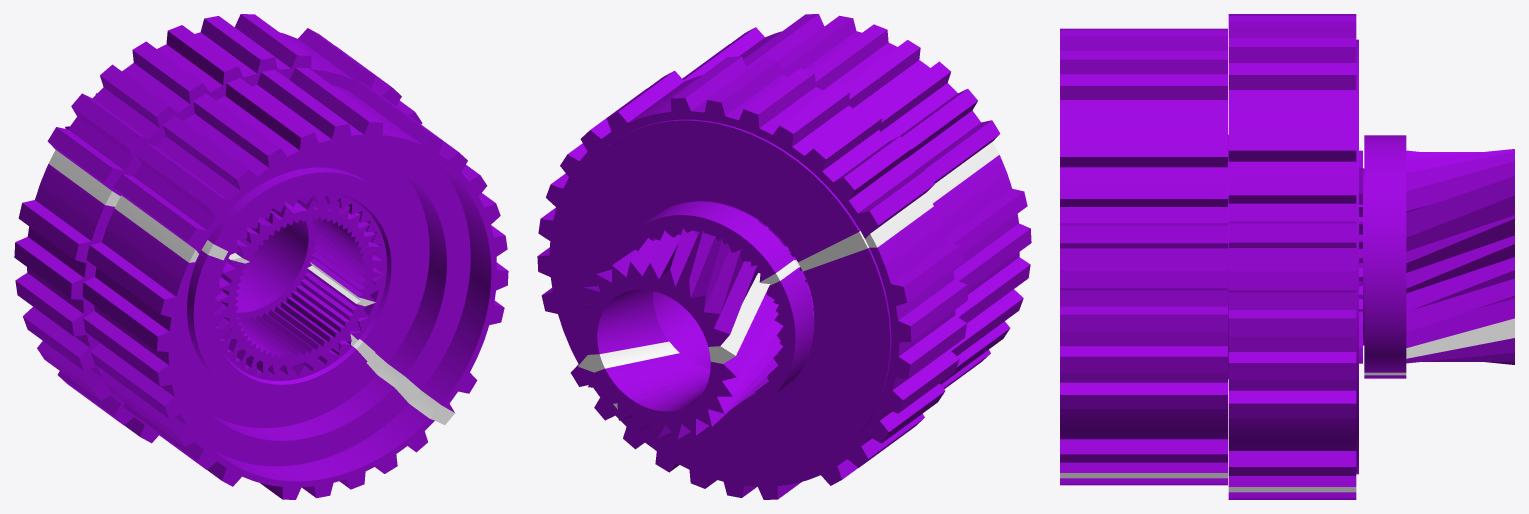
Rendered from 664 and 668.fbx.
The picture shows the model from 3 angles, left to right: view 1: azimuth 30°, elevation 25°; view 2: azimuth 150°, elevation 25°; view 3: azimuth 270°, elevation 25°; orthographic projection. The views are drawn at different scales.
Visible parts, largest first — view 1: 664 and 668, 664 and 668.001; view 2: 664 and 668, 664 and 668.001, Circle; view 3: 664 and 668, 664 and 668.001, Circle.
Boxes of the visible parts, x1,y1,x2,y2 form: 664 and 668: (14,14,508,499); 664 and 668.001: (65,93,381,375); 664 and 668: (537,14,1031,499); 664 and 668.001: (571,207,813,439); Circle: (613,201,813,415); 664 and 668: (1060,14,1358,499); 664 and 668.001: (1359,149,1514,364); Circle: (1364,135,1406,378).
Bounding box in the file's own units: 929 × 929 × 868.
